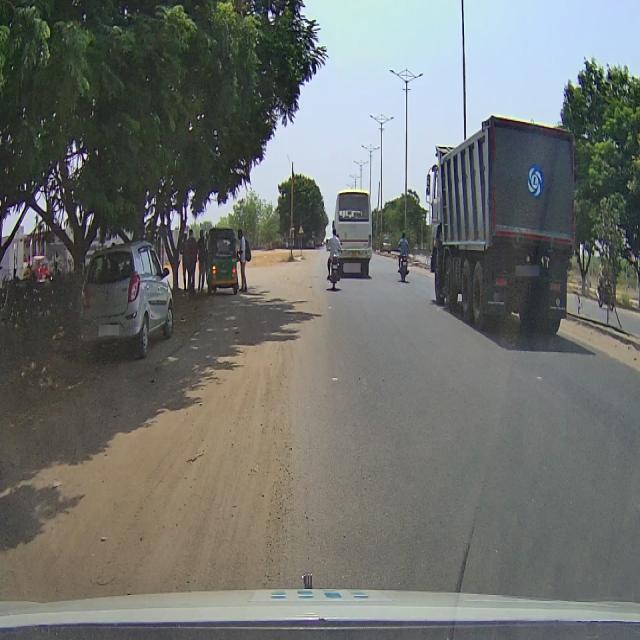auto ahead at: (206, 226, 239, 301)
car ahead at: (76, 239, 178, 378)
motorcycle ahead at: (324, 227, 350, 291)
truck ahead at: (423, 109, 580, 360)
